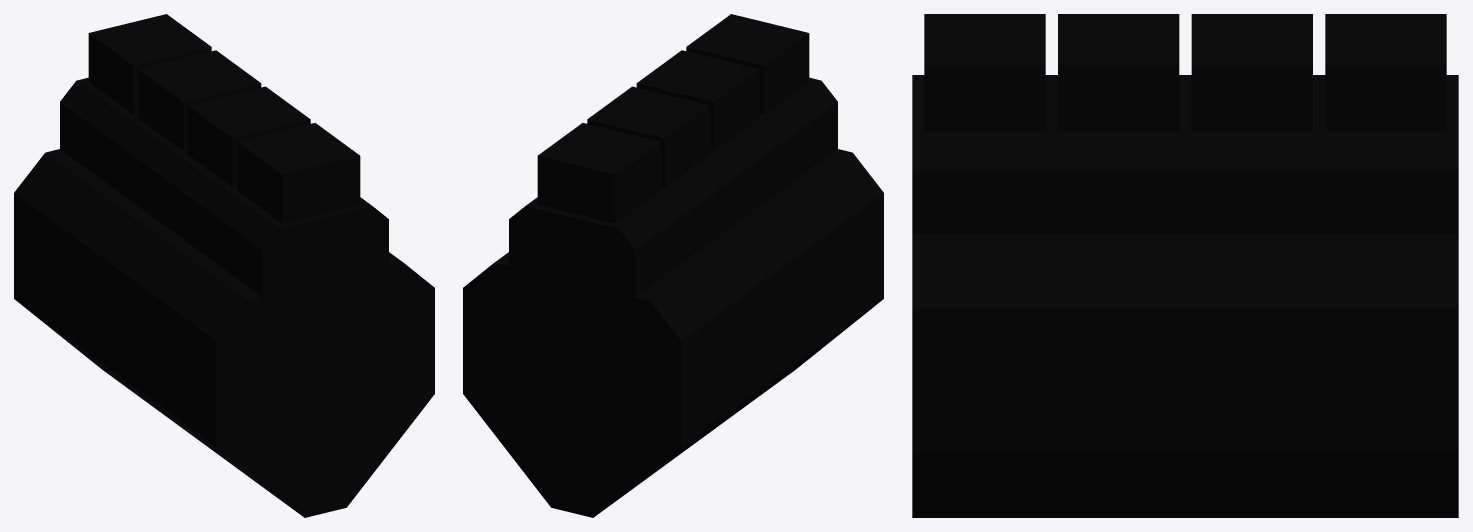
The model's file is v4inlinetorquelinelightmanual.obj.
3 views of the same model, side by side, from view 1: azimuth 30°, elevation 25°; view 2: azimuth 150°, elevation 25°; view 3: azimuth 270°, elevation 25° (orthographic). The views are drawn at different scales.
Visible parts, largest first — view 1: cube; view 2: cube; view 3: cube.
Part boxes in pixels (left/top/right/bottom): cube: left=14, top=14, right=434, bottom=517; cube: left=463, top=14, right=883, bottom=517; cube: left=912, top=14, right=1458, bottom=517.
Bounding box in the file's own units: 0.5388 × 0.812 × 0.8659.
